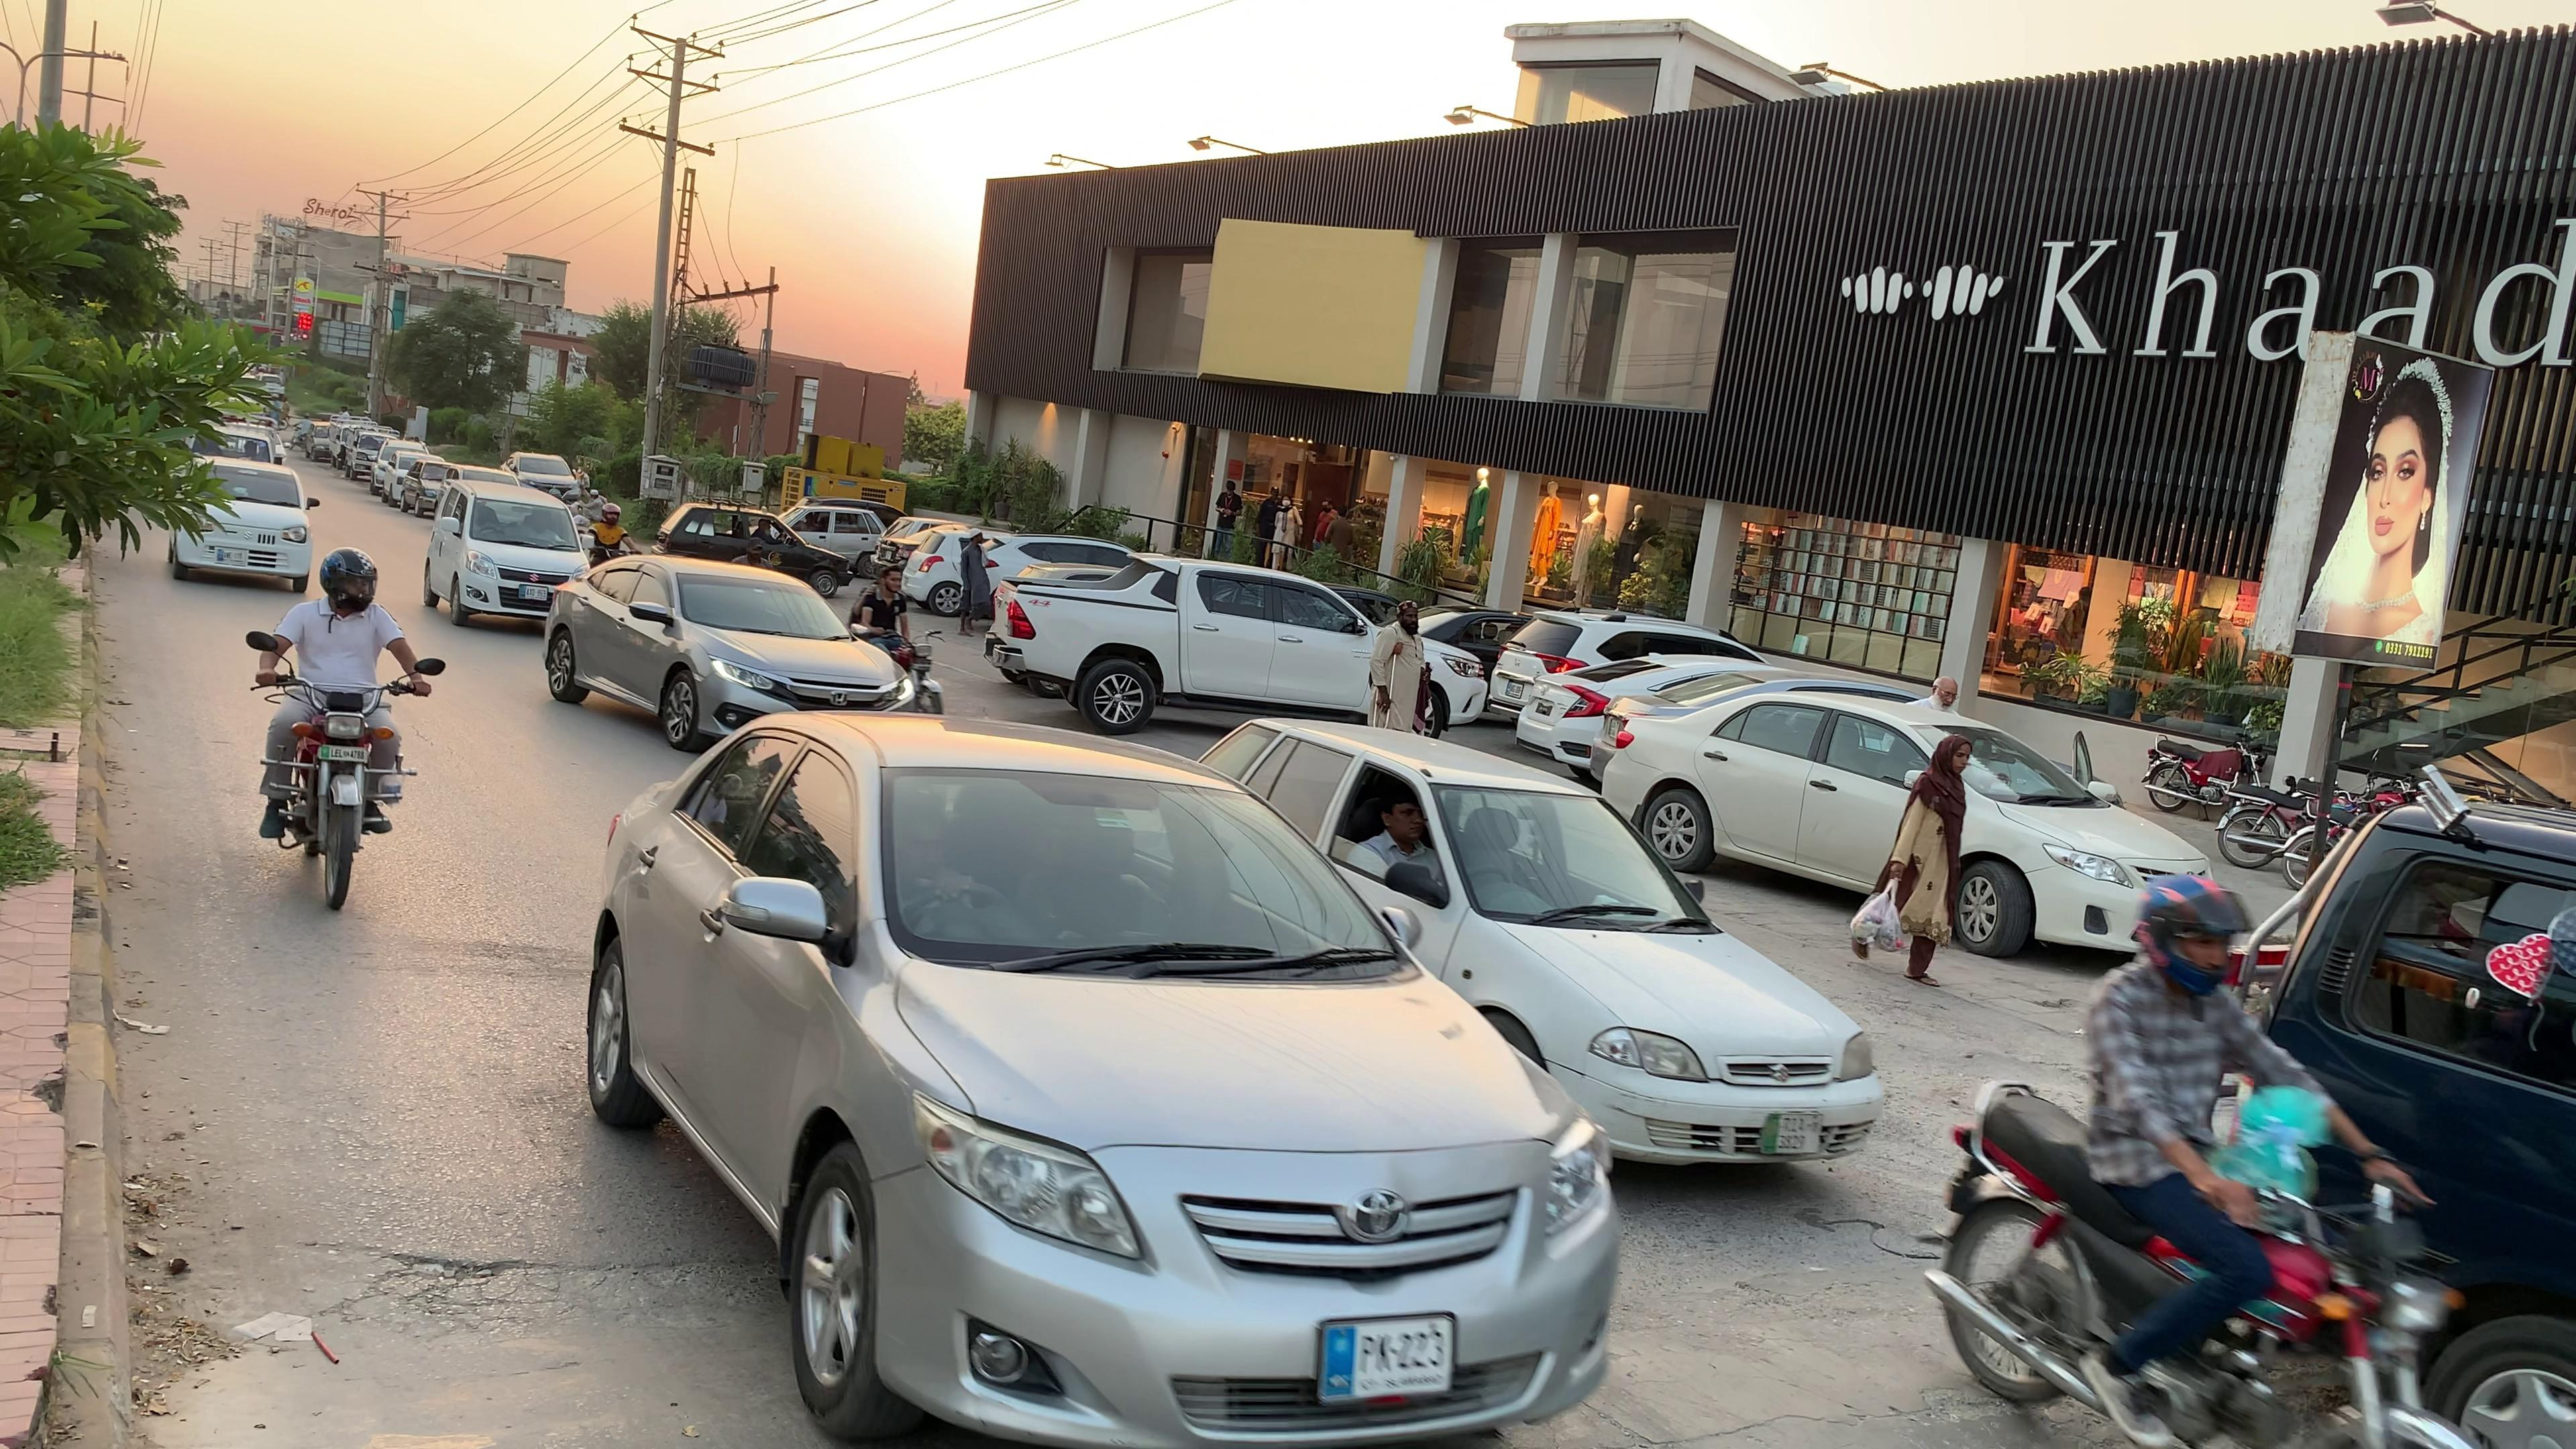windshield: (872, 764, 1440, 996), (1415, 771, 1730, 936)
